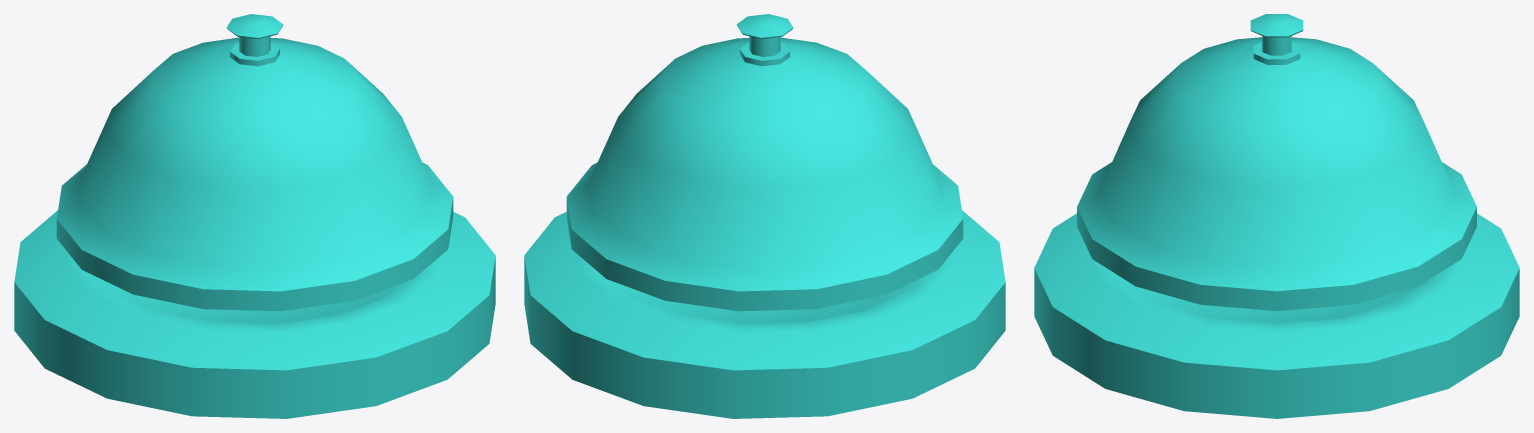
File: reception_bell_low.fbx
The picture shows the model from 3 angles, left to right: view 1: azimuth 30°, elevation 25°; view 2: azimuth 150°, elevation 25°; view 3: azimuth 270°, elevation 25°; orthographic projection.
Visible parts, largest first — view 1: Reception_bell_1_low, Reception_bell_2_low; view 2: Reception_bell_1_low, Reception_bell_2_low; view 3: Reception_bell_1_low, Reception_bell_2_low.
Part boxes in pixels (box(x1,y1,x2,y2)): Reception_bell_1_low: box(56, 14, 453, 311); Reception_bell_2_low: box(14, 210, 495, 418); Reception_bell_1_low: box(566, 14, 963, 311); Reception_bell_2_low: box(524, 210, 1005, 418); Reception_bell_1_low: box(1077, 14, 1476, 310); Reception_bell_2_low: box(1034, 213, 1519, 418).
Size of the model in its own units: 16.36 by 11.04 by 16.36.
